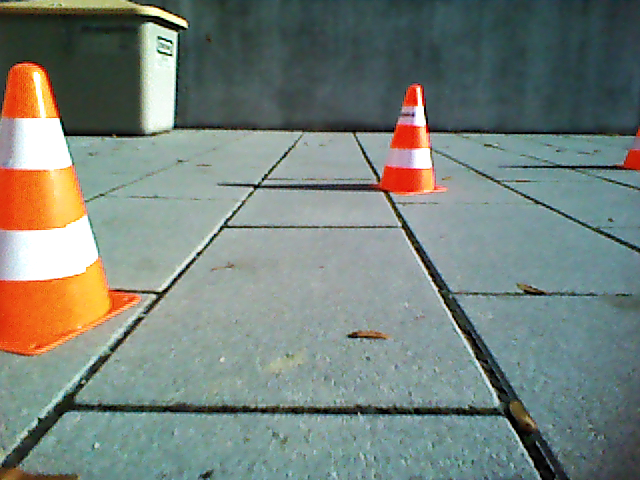orangeconesmall: (1, 61, 137, 359), (377, 83, 444, 198)
